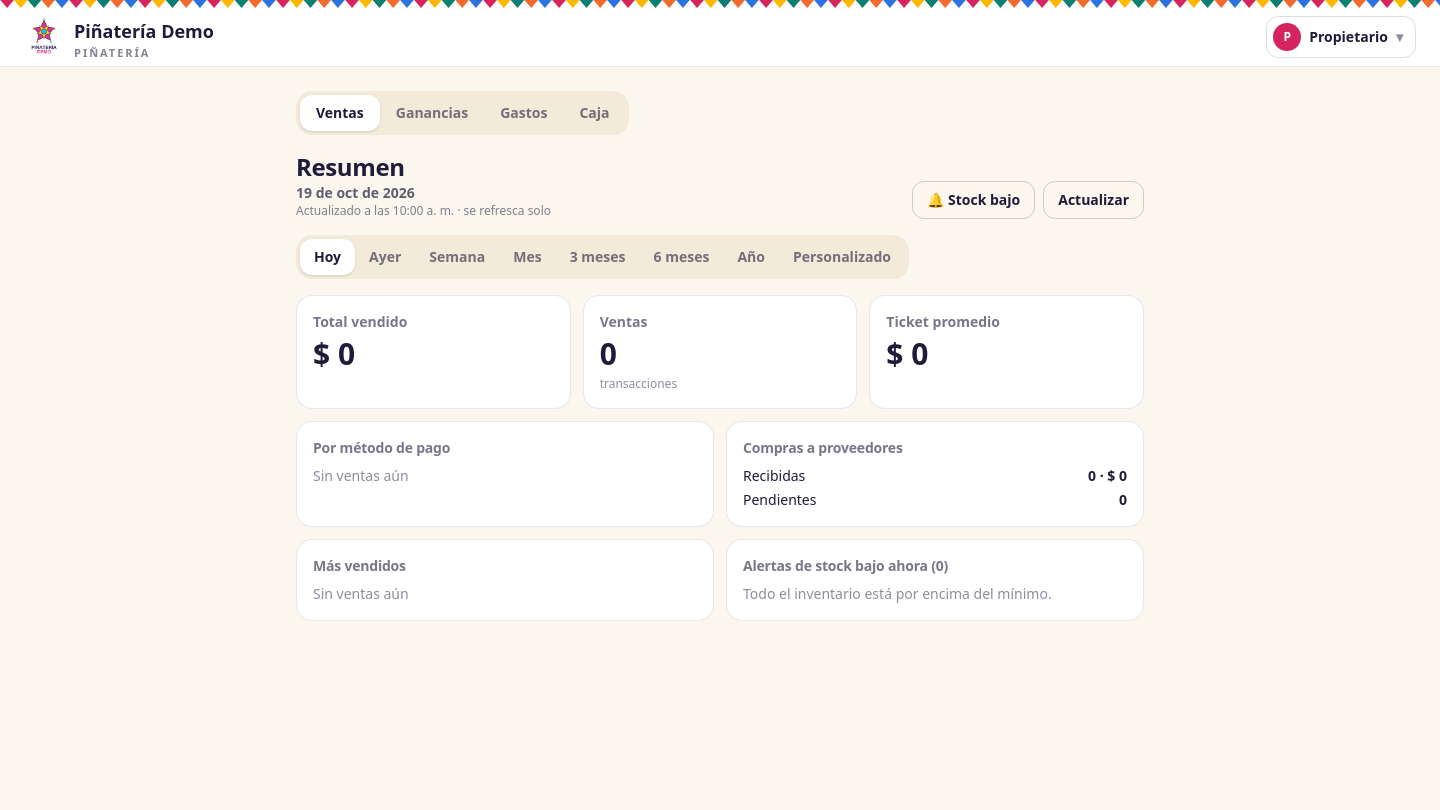
Test case: DashboardPage del propietario › Caja es de solo lectura: se consulta y se exporta, pero no se abre ni se cierra
The width and height of the screenshot is (1440, 810).
Click the tab "Caja" at (594, 113), box [563,95,626,131]
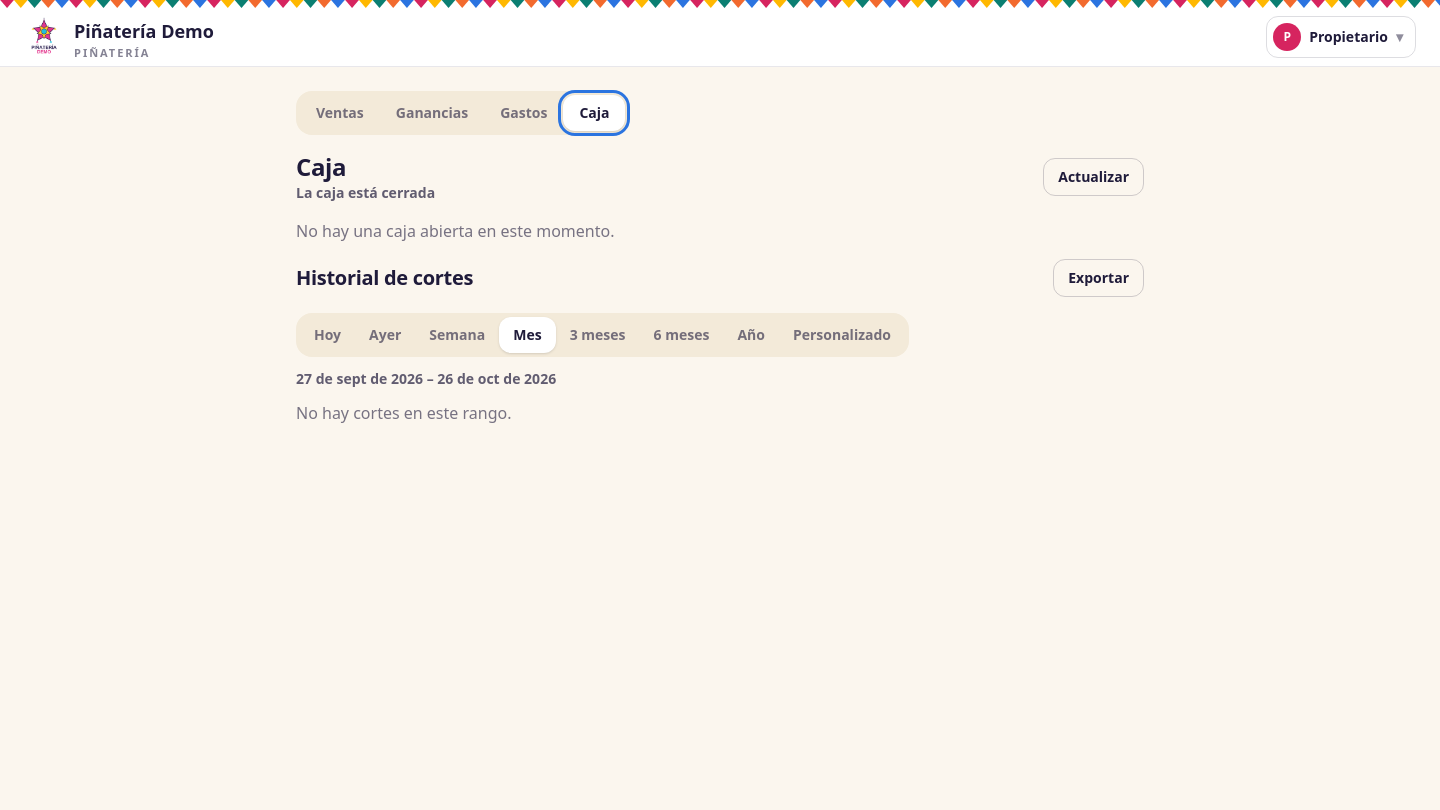
expect the text "No hay una caja abierta en este momento." is shown: met, box [296,220,614,242]
expect the button "Exportar" is shown: met, box [1053,259,1144,297]
